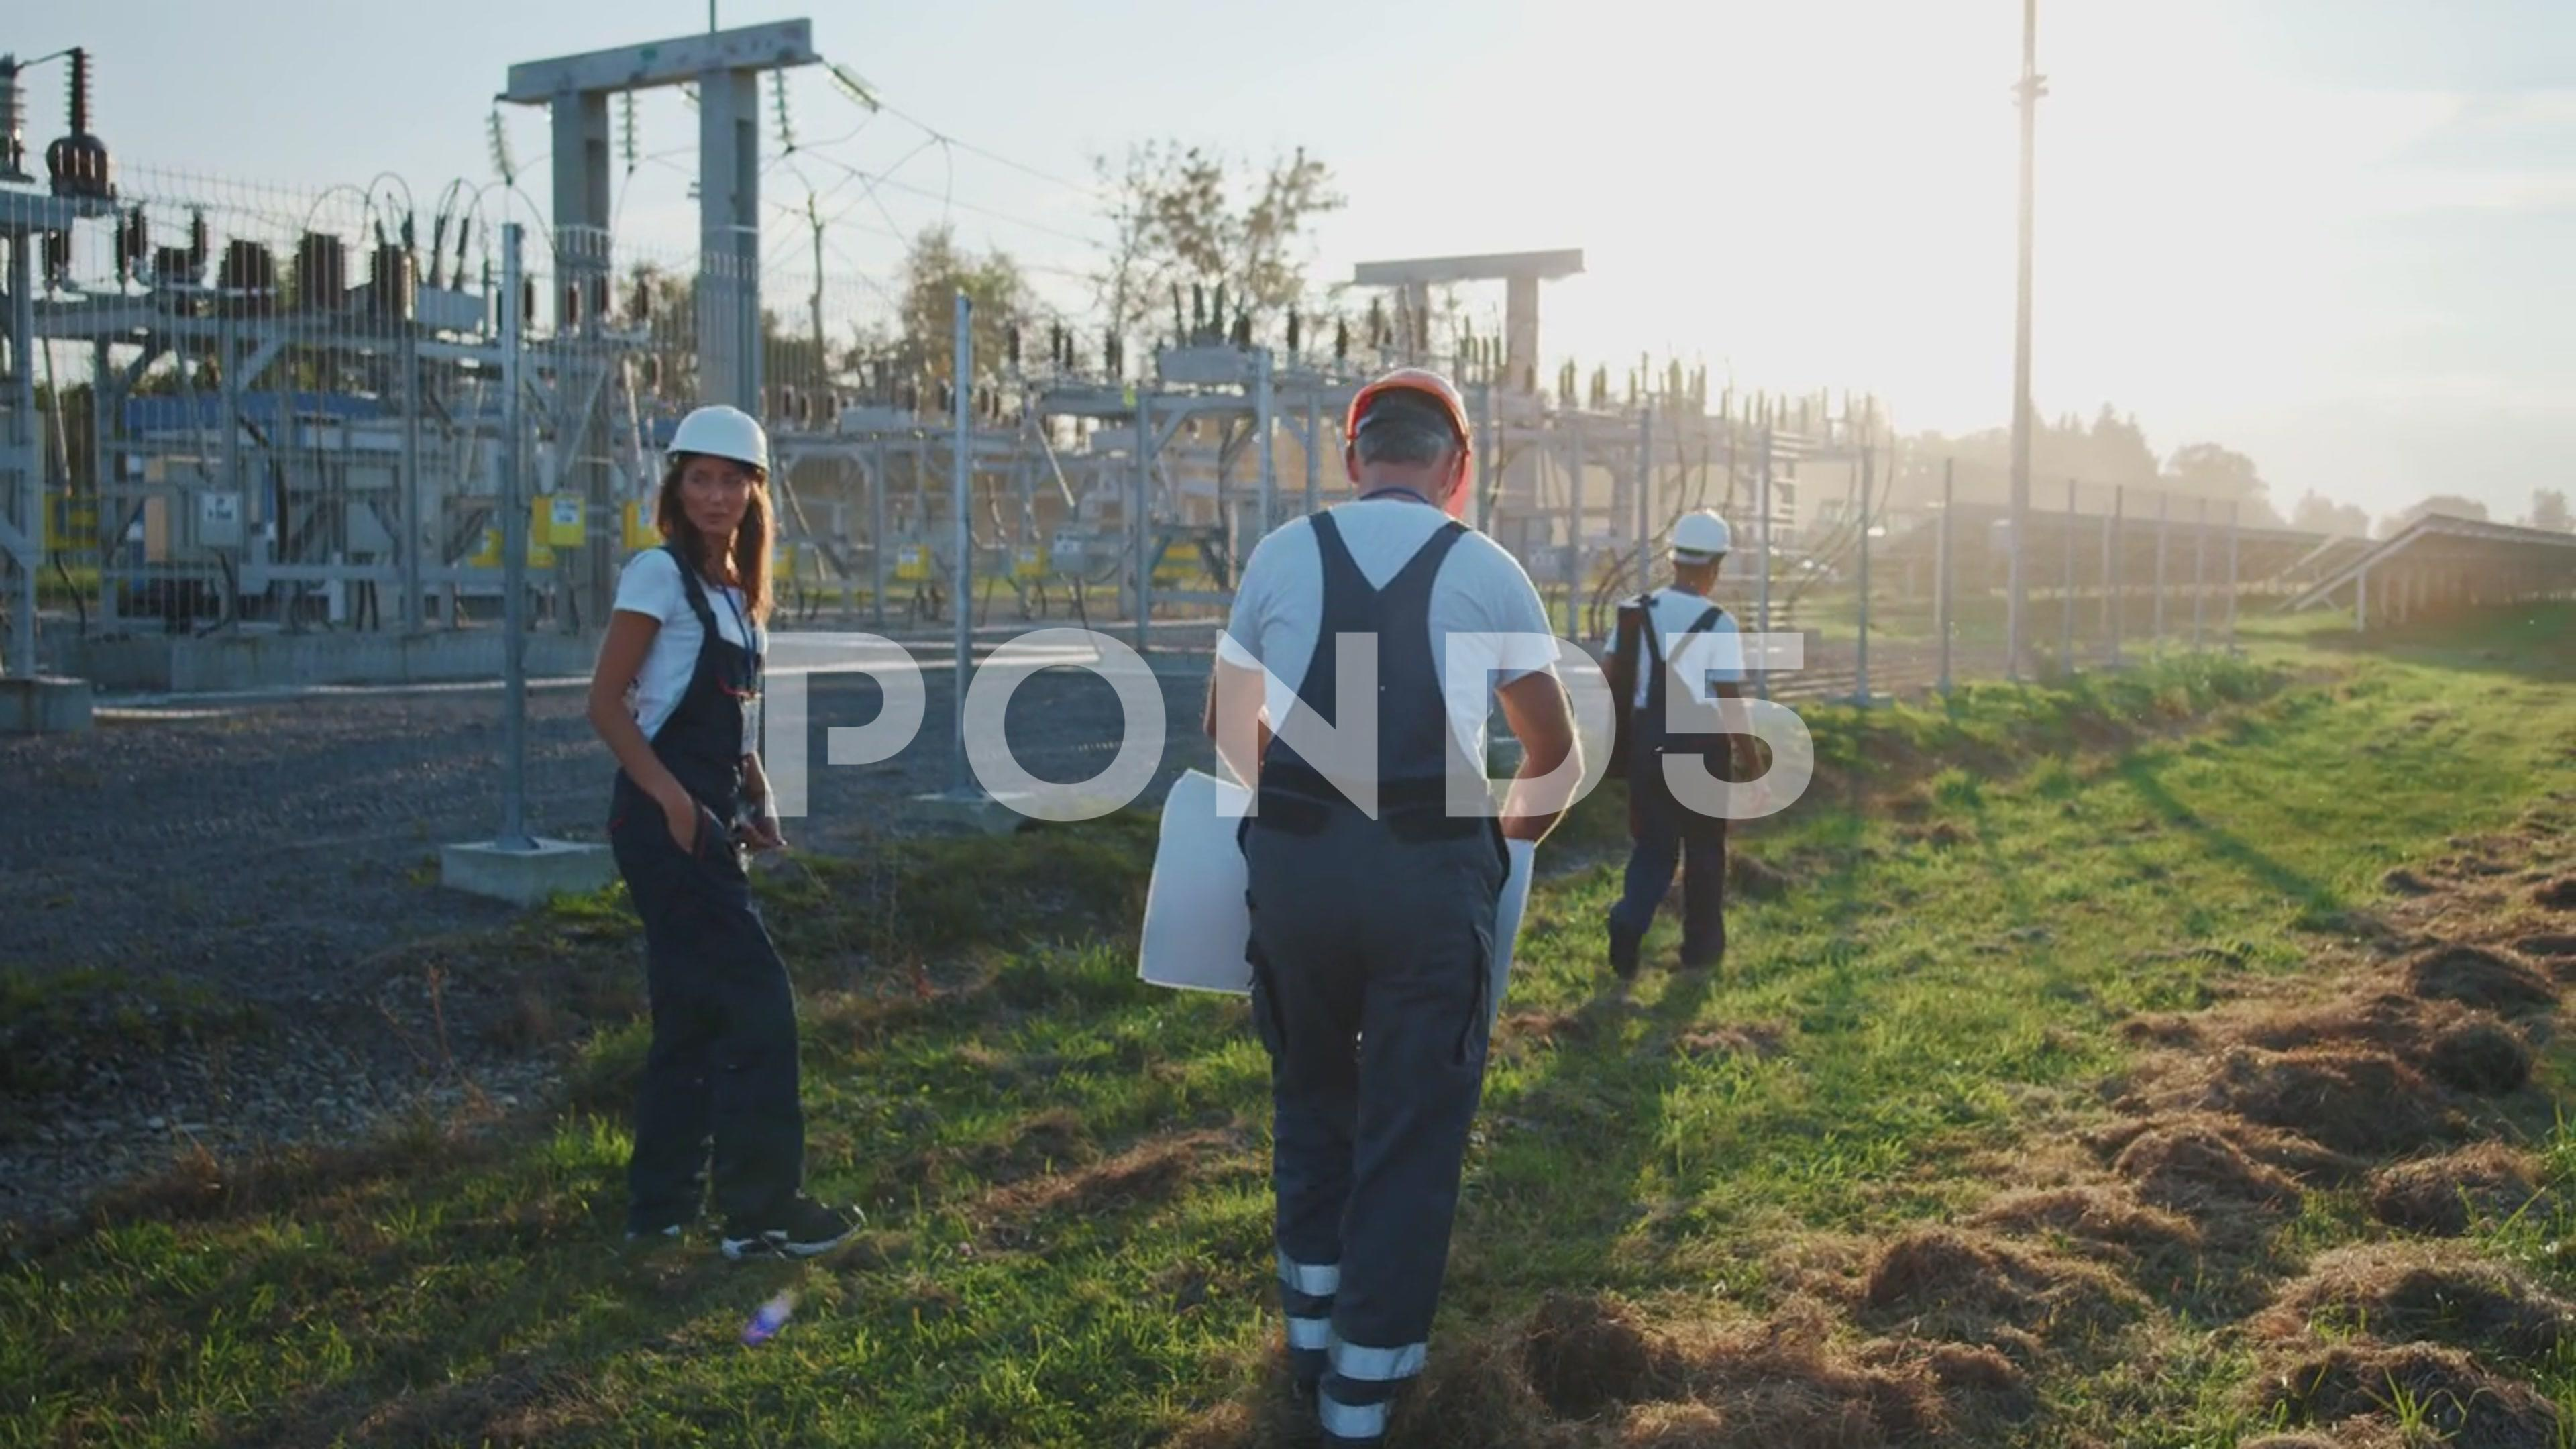hat: (618, 366, 819, 601), (1309, 350, 1534, 561), (1664, 480, 1772, 618)
no vest: (1141, 470, 1614, 1134), (551, 521, 856, 1097), (1547, 591, 1822, 853)
